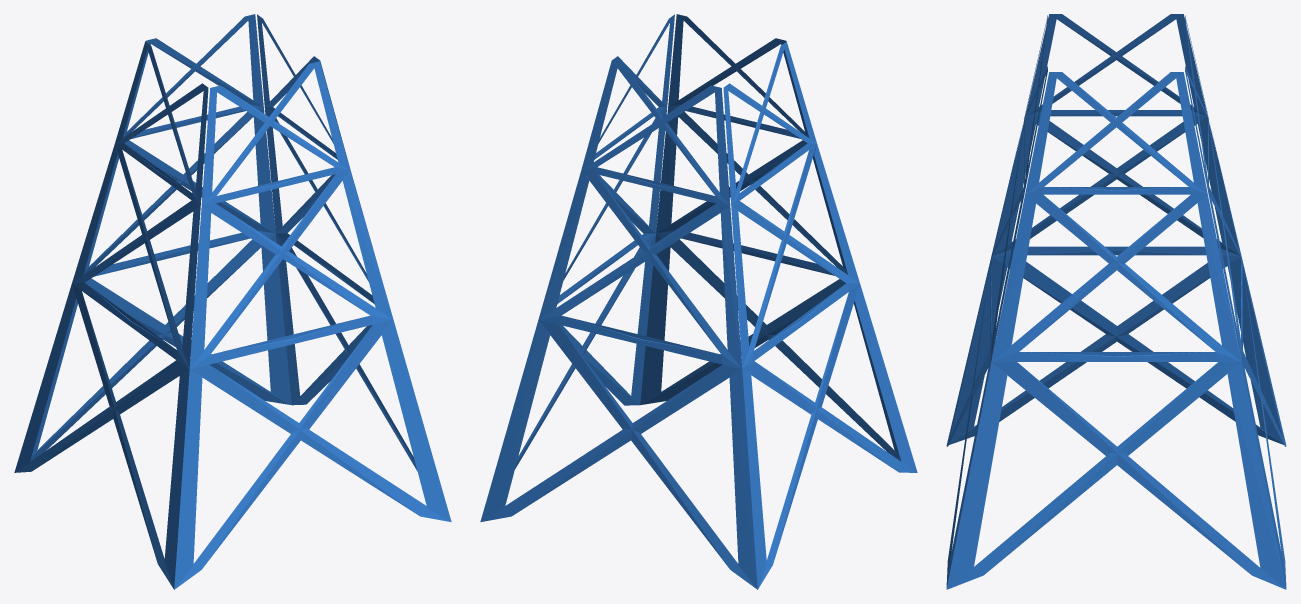
File: tower.FBX
The picture shows the model from 3 angles, left to right: view 1: azimuth 30°, elevation 25°; view 2: azimuth 150°, elevation 25°; view 3: azimuth 270°, elevation 25°; orthographic projection. The views are drawn at different scales.
Parts seen in each view (by area): view 1: VIFS001; view 2: VIFS001; view 3: VIFS001.
Boxes of the visible parts, x1,y1,x2,y2 form: VIFS001: (14,14,451,589); VIFS001: (480,14,917,589); VIFS001: (946,14,1286,589).
Bounding box in the file's own units: 0.524 × 0.806 × 0.523.
